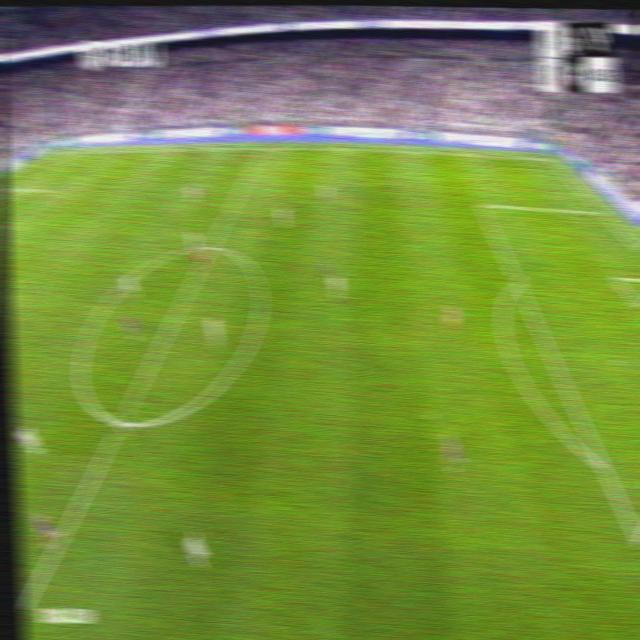bigarea_top_inner: (49, 181, 62, 197)
bigarea_top_outter: (594, 202, 608, 218)
bottom_arc_area_intersection: (111, 409, 129, 435)
corner: (544, 153, 556, 163)
midline_top_intersection: (258, 142, 268, 153)
smallarea_top_inner: (608, 267, 623, 287)
top_arc_area_intersection: (510, 274, 524, 289)
